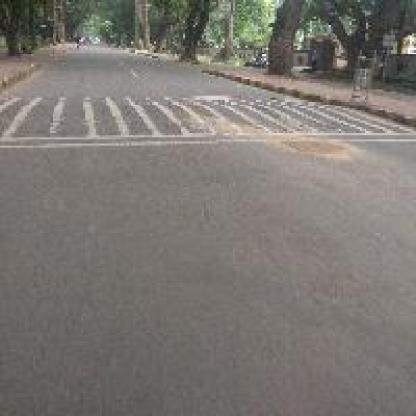Speed Bump: (2, 96, 408, 148)
